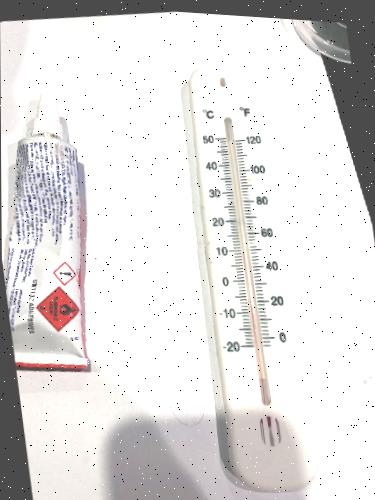thermo: (186, 54, 322, 490)
